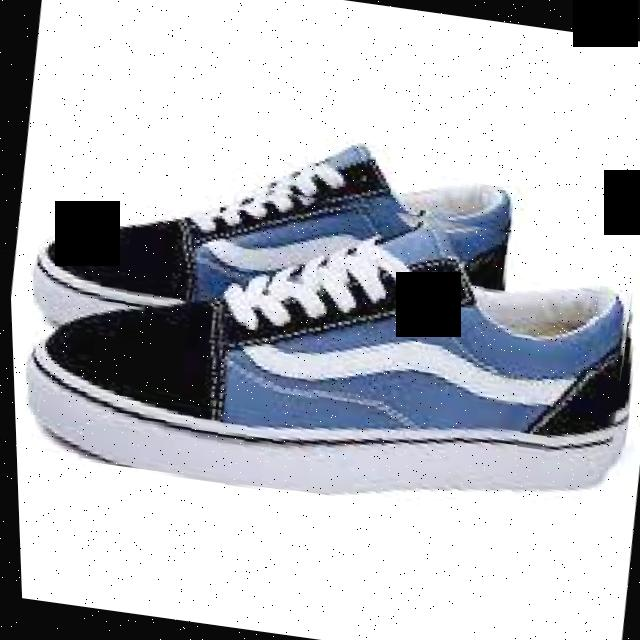shoe: (3, 96, 640, 540), (5, 151, 640, 534)
